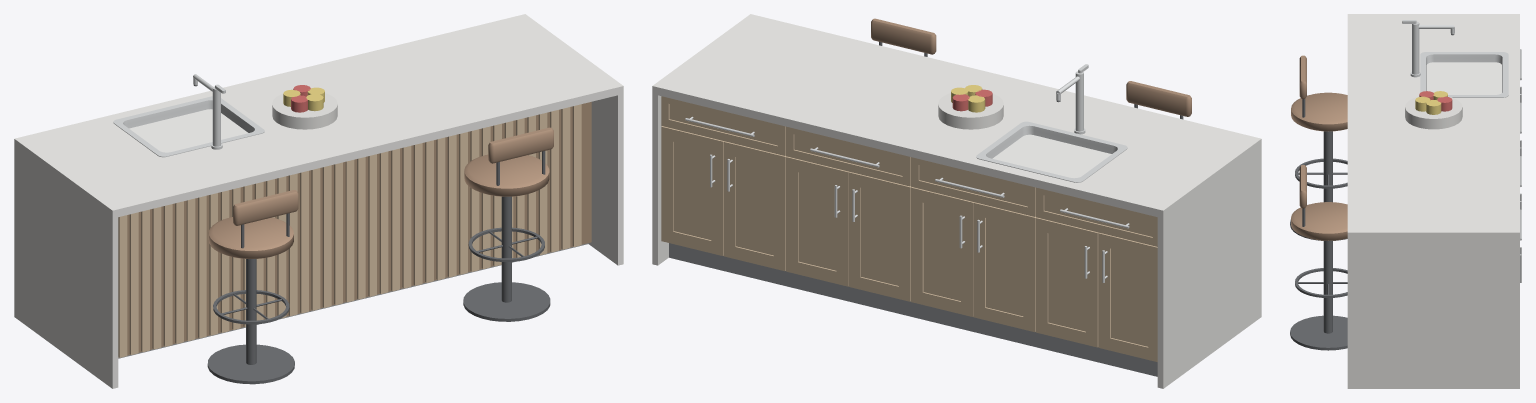
The picture shows the model from 3 angles, left to right: view 1: azimuth 30°, elevation 25°; view 2: azimuth 150°, elevation 25°; view 3: azimuth 270°, elevation 25°; orthographic projection. The views are drawn at different scales.
Parts seen in each view (by area): view 1: Đảo bếp Dài=2700; Rộng=900; view 2: Đảo bếp Dài=2700; Rộng=900; view 3: Đảo bếp Dài=2700; Rộng=900.
Boxes of the visible parts, box(x1,y1,x2,y2) form: Đảo bếp Dài=2700; Rộng=900: box(14, 14, 623, 388); Đảo bếp Dài=2700; Rộng=900: box(652, 14, 1261, 388); Đảo bếp Dài=2700; Rộng=900: box(1290, 14, 1521, 388).
Size of the model in its own units: 2.7 by 1.21 by 1.21.
